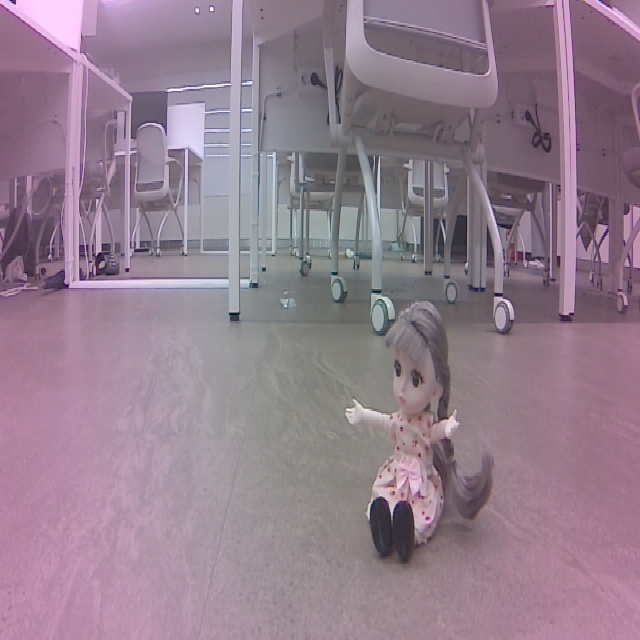장애물: (343, 300, 494, 563)
